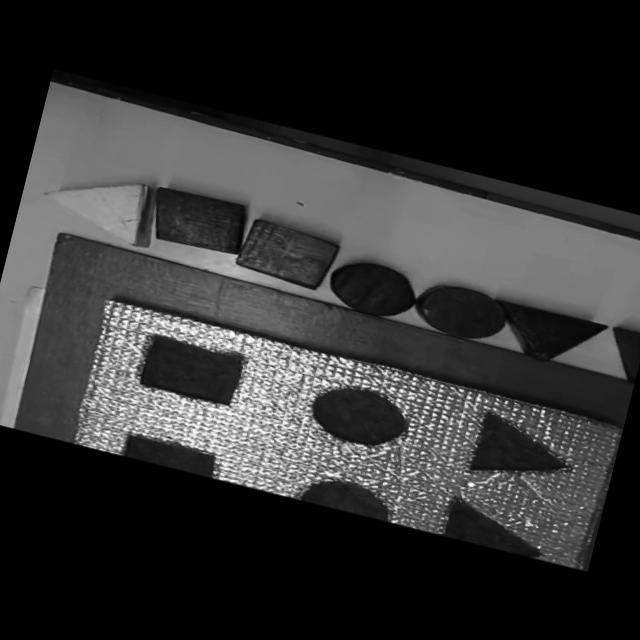bcircle: (323, 254, 422, 325)
bcube: (144, 183, 252, 260)
btriangle: (486, 298, 610, 376)
mtcircle: (304, 377, 414, 456), (297, 470, 399, 522)
mtcube: (136, 332, 250, 409), (120, 430, 220, 478)
mttriangle: (464, 408, 580, 493), (440, 496, 549, 560)
rcircle: (412, 277, 512, 348)
rcube: (233, 216, 341, 292)
rtriangle: (599, 324, 640, 383)
wb: (82, 296, 621, 567)
ytriangle: (36, 162, 162, 248)
